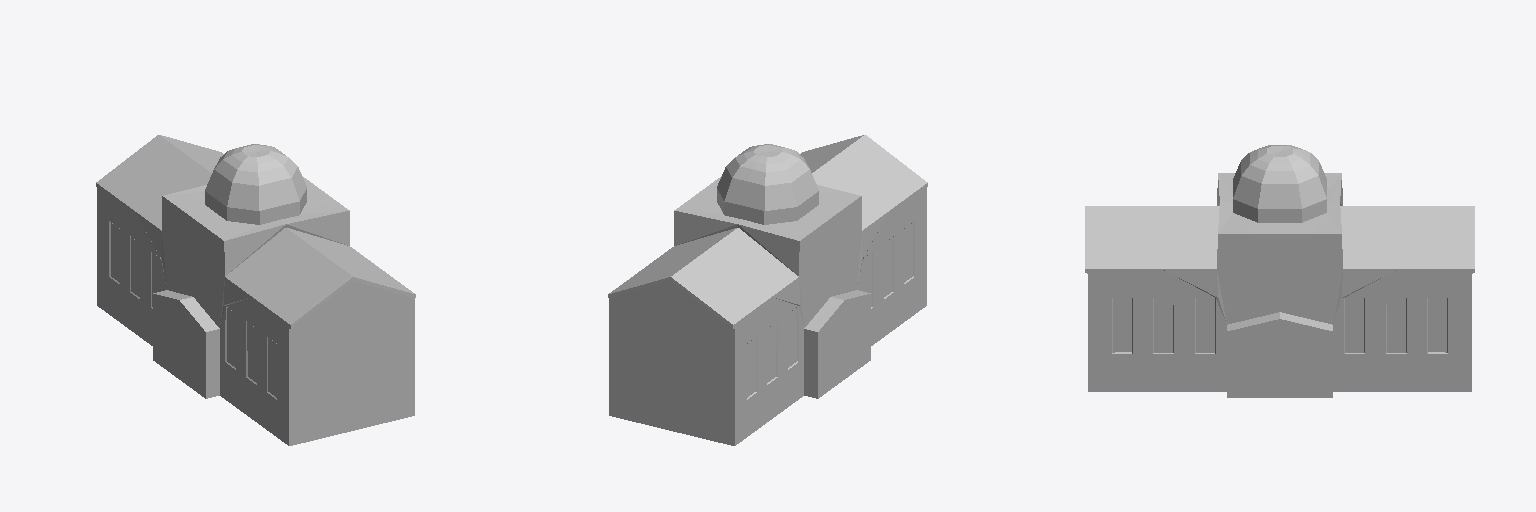
File: Library.obj
The picture shows the model from 3 angles: view 1: azimuth 30°, elevation 25°; view 2: azimuth 150°, elevation 25°; view 3: azimuth 270°, elevation 25°; orthographic projection.
Visible parts, largest first — view 1: Cube; view 2: Cube; view 3: Cube.
Boxes of the visible parts, <box> form: Cube: <box>96,135,415,445</box>; Cube: <box>608,135,927,445</box>; Cube: <box>1085,145,1474,397</box>.
Size of the model in its own units: 8.55 by 11.19 by 18.81.